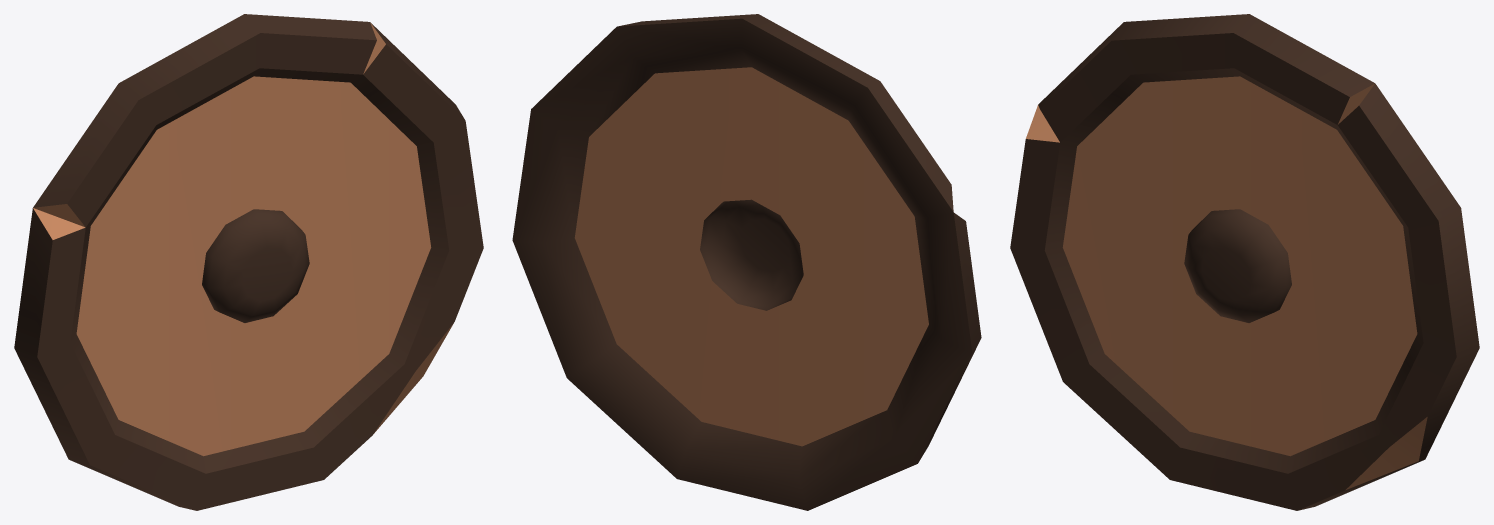
Rendered from kalkan 4.fbx.
3 renders of one model, left to right at view 1: azimuth 30°, elevation 25°; view 2: azimuth 150°, elevation 25°; view 3: azimuth 330°, elevation 25°, orthographic.
Parts seen in each view (by area): view 1: kalkan 4; view 2: kalkan 4; view 3: kalkan 4.
Part boxes in pixels (bbox=[...]): kalkan 4: bbox=[14, 14, 483, 510]; kalkan 4: bbox=[512, 14, 981, 510]; kalkan 4: bbox=[1010, 14, 1479, 510].
Size of the model in its own units: 49.19 by 48.69 by 4.32.
